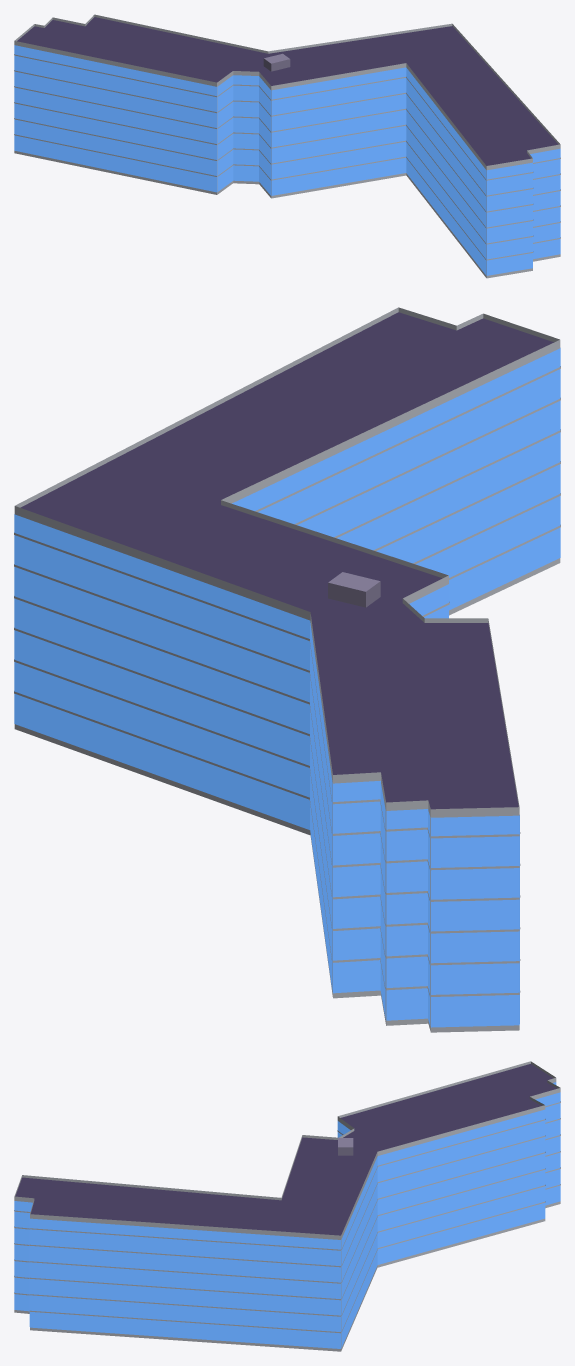
3 views of the same model, one above another, from view 1: azimuth 30°, elevation 25°; view 2: azimuth 150°, elevation 25°; view 3: azimuth 270°, elevation 25° (orthographic). The views are drawn at different scales.
Parts seen in each view (by area): view 1: campus/b-000-0; view 2: campus/b-000-0; view 3: campus/b-000-0.
Boxes of the visible parts, x1,y1,x2,y2 form: campus/b-000-0: (14,14,560,278); campus/b-000-0: (14,307,560,1032); campus/b-000-0: (14,1061,560,1351).
Bounding box in the file's own units: 81.81 × 26.6 × 108.
